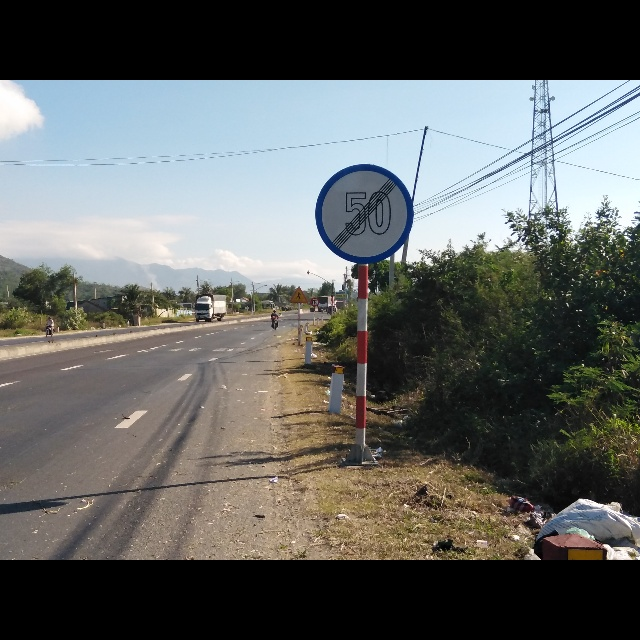Hết hạn chế tốc độ tối đa 50km/h: (313, 163, 416, 267)
